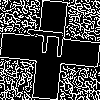F: (25, 25, 74, 61)
